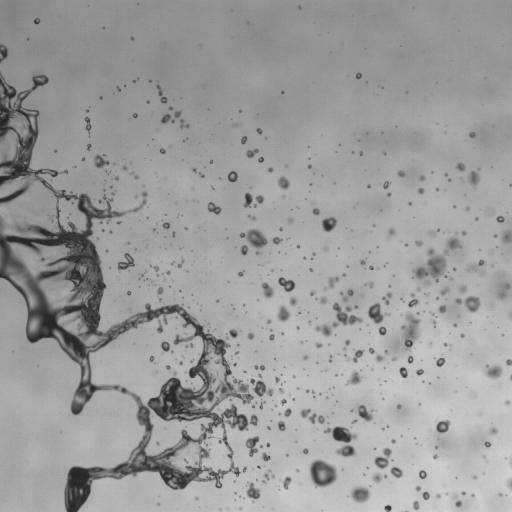droplet: (315, 302, 362, 337), (324, 426, 357, 457), (309, 459, 337, 487), (240, 229, 267, 248), (368, 303, 389, 323), (455, 296, 480, 312), (374, 448, 391, 469), (349, 486, 370, 503), (243, 192, 263, 207), (117, 253, 134, 270), (467, 259, 485, 275), (245, 436, 259, 456), (357, 405, 374, 421), (483, 364, 502, 378), (246, 482, 260, 501), (278, 277, 295, 292), (277, 304, 290, 322), (94, 154, 109, 168), (346, 371, 362, 384), (322, 217, 336, 231), (261, 282, 273, 298), (436, 420, 450, 433), (351, 349, 364, 362), (468, 171, 479, 186), (208, 202, 221, 214), (340, 289, 353, 301), (372, 472, 387, 482), (278, 176, 289, 189), (280, 476, 291, 489), (408, 293, 418, 307), (390, 467, 402, 478), (246, 148, 258, 158), (263, 473, 274, 483), (161, 114, 173, 123), (502, 231, 511, 243), (382, 292, 391, 304), (160, 341, 170, 351), (228, 171, 237, 182), (440, 286, 449, 295), (289, 296, 297, 306), (399, 367, 407, 377), (277, 421, 285, 431), (456, 163, 465, 171), (458, 285, 467, 293), (378, 326, 386, 335), (262, 452, 270, 461), (240, 245, 247, 255), (436, 358, 444, 366), (272, 237, 281, 244), (284, 408, 291, 417), (180, 120, 188, 127), (319, 297, 327, 304), (438, 305, 445, 313), (489, 427, 497, 434), (419, 470, 426, 478), (422, 491, 429, 499), (413, 501, 419, 510), (388, 228, 395, 235), (496, 216, 504, 222), (157, 287, 163, 295), (407, 355, 413, 363), (174, 111, 181, 117), (241, 136, 247, 143), (383, 181, 389, 188), (162, 222, 169, 228), (415, 240, 422, 246), (315, 342, 322, 348), (416, 369, 423, 375), (384, 505, 391, 511), (398, 171, 404, 177), (313, 208, 319, 214), (367, 281, 373, 287), (505, 359, 511, 365), (498, 292, 505, 297), (248, 332, 253, 339), (259, 401, 264, 408), (256, 128, 262, 133), (469, 132, 475, 137), (419, 175, 425, 180), (249, 215, 255, 220), (153, 265, 158, 271), (238, 271, 244, 276), (431, 319, 436, 325), (269, 334, 274, 340), (345, 340, 350, 346), (278, 388, 284, 393), (485, 441, 490, 447), (435, 493, 441, 498), (34, 18, 39, 23), (356, 73, 361, 78), (160, 148, 165, 153), (258, 157, 263, 162), (268, 167, 273, 172), (418, 188, 423, 193), (288, 218, 293, 223), (360, 260, 365, 265), (310, 290, 315, 295), (149, 356, 154, 361), (281, 399, 286, 404), (416, 486, 421, 491), (328, 356, 332, 362), (122, 166, 127, 170), (134, 174, 138, 179), (430, 231, 435, 235), (345, 355, 349, 360), (275, 377, 279, 382), (303, 449, 308, 453), (87, 144, 90, 150), (133, 113, 137, 117), (199, 173, 203, 177), (114, 176, 118, 180), (387, 192, 391, 196), (462, 231, 466, 235), (369, 265, 373, 269), (166, 270, 170, 274), (416, 287, 420, 291), (127, 291, 131, 295), (267, 319, 271, 323), (453, 323, 457, 327), (303, 356, 307, 360), (166, 365, 170, 369), (505, 400, 509, 404), (397, 404, 401, 408), (352, 419, 356, 423), (391, 439, 395, 443), (433, 454, 437, 458), (472, 475, 476, 479), (461, 491, 465, 495), (323, 247, 328, 250), (233, 123, 237, 126), (308, 164, 311, 168), (193, 168, 196, 172), (112, 191, 115, 195), (506, 284, 509, 288), (430, 312, 434, 315), (460, 334, 464, 337), (444, 343, 448, 346), (117, 87, 120, 90), (359, 151, 362, 154), (408, 202, 411, 205), (466, 207, 469, 210), (426, 281, 429, 284), (354, 305, 357, 308), (235, 351, 238, 354), (179, 361, 182, 364), (258, 374, 261, 377), (306, 389, 309, 392), (252, 405, 255, 408), (266, 443, 269, 446), (152, 229, 156, 231), (425, 293, 429, 295), (131, 37, 133, 40), (169, 107, 172, 109), (113, 162, 115, 165), (367, 185, 370, 187), (117, 221, 120, 223), (279, 228, 282, 230), (172, 232, 174, 235), (494, 234, 496, 237), (171, 262, 174, 264), (310, 268, 312, 271), (343, 273, 345, 276), (140, 275, 142, 278), (296, 327, 299, 329), (384, 351, 387, 353), (191, 359, 193, 362), (267, 427, 270, 429), (156, 442, 159, 444), (472, 494, 474, 497), (195, 497, 198, 499), (282, 91, 284, 93), (82, 158, 84, 160), (444, 173, 446, 175), (436, 188, 438, 190), (297, 245, 299, 247), (303, 256, 305, 258), (343, 348, 345, 350), (393, 358, 395, 360), (234, 363, 236, 365), (293, 375, 295, 377), (292, 398, 294, 400), (435, 446, 437, 448), (286, 454, 288, 456), (296, 469, 298, 471), (239, 507, 241, 509)
ligament: (0, 72, 273, 511), (412, 237, 461, 281), (400, 312, 420, 350), (300, 409, 324, 423), (368, 347, 384, 361), (156, 85, 167, 103), (324, 277, 339, 289), (0, 44, 7, 62), (452, 494, 461, 507), (85, 117, 91, 131), (506, 478, 511, 491), (254, 365, 264, 370), (177, 260, 184, 267), (509, 458, 511, 466), (509, 312, 511, 319), (510, 375, 511, 379), (404, 510, 407, 511)
